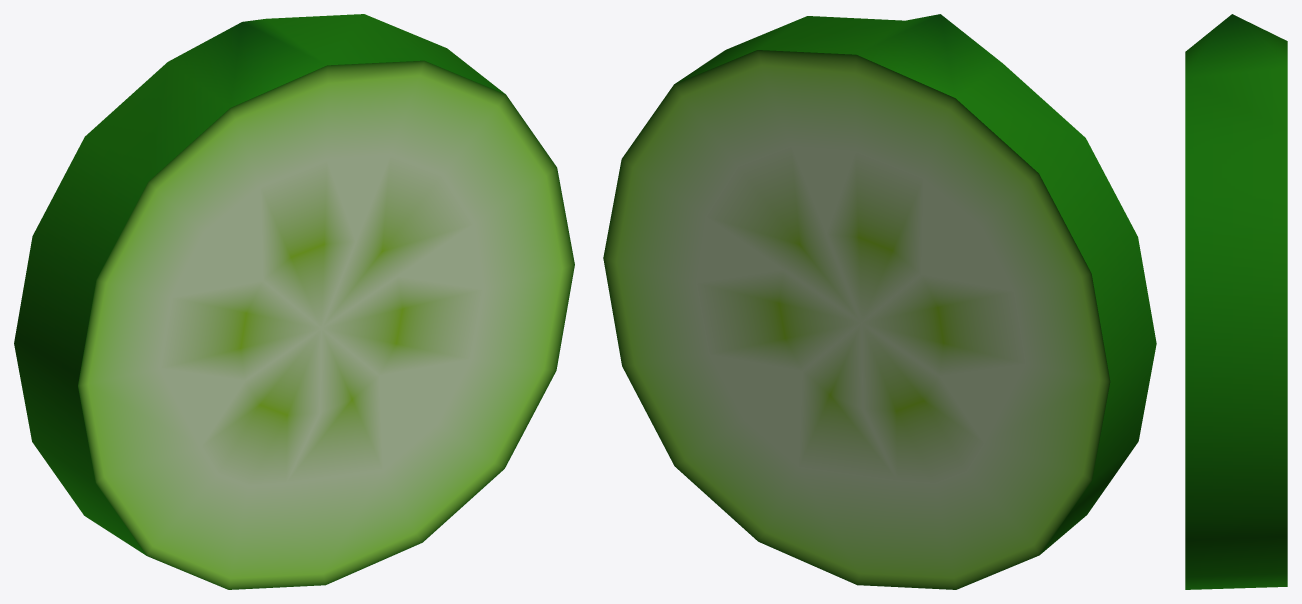
File: Cucumber_Slice_08.fbx
3 views of the same model, side by side, from view 1: azimuth 30°, elevation 25°; view 2: azimuth 150°, elevation 25°; view 3: azimuth 270°, elevation 25° (orthographic). The views are drawn at different scales.
Visible parts, largest first — view 1: Cucumber_Slice_08; view 2: Cucumber_Slice_08; view 3: Cucumber_Slice_08.
Boxes of the visible parts, x1,y1,x2,y2 form: Cucumber_Slice_08: (14, 14, 574, 589); Cucumber_Slice_08: (603, 14, 1156, 589); Cucumber_Slice_08: (1185, 14, 1287, 589).
Bounding box in the file's own units: 4.58 × 4.84 × 0.8612.
